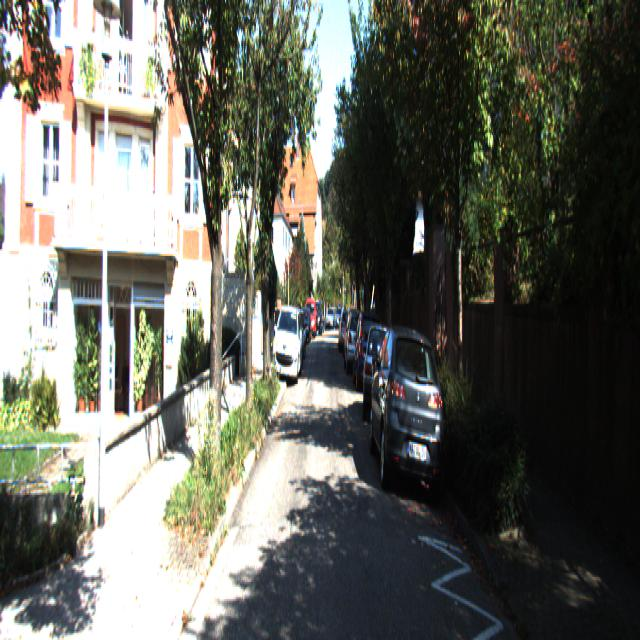Car: (368, 323, 447, 522), (362, 321, 398, 435), (352, 306, 383, 395), (272, 305, 303, 390), (344, 306, 370, 376), (338, 306, 355, 354), (304, 297, 316, 340)
